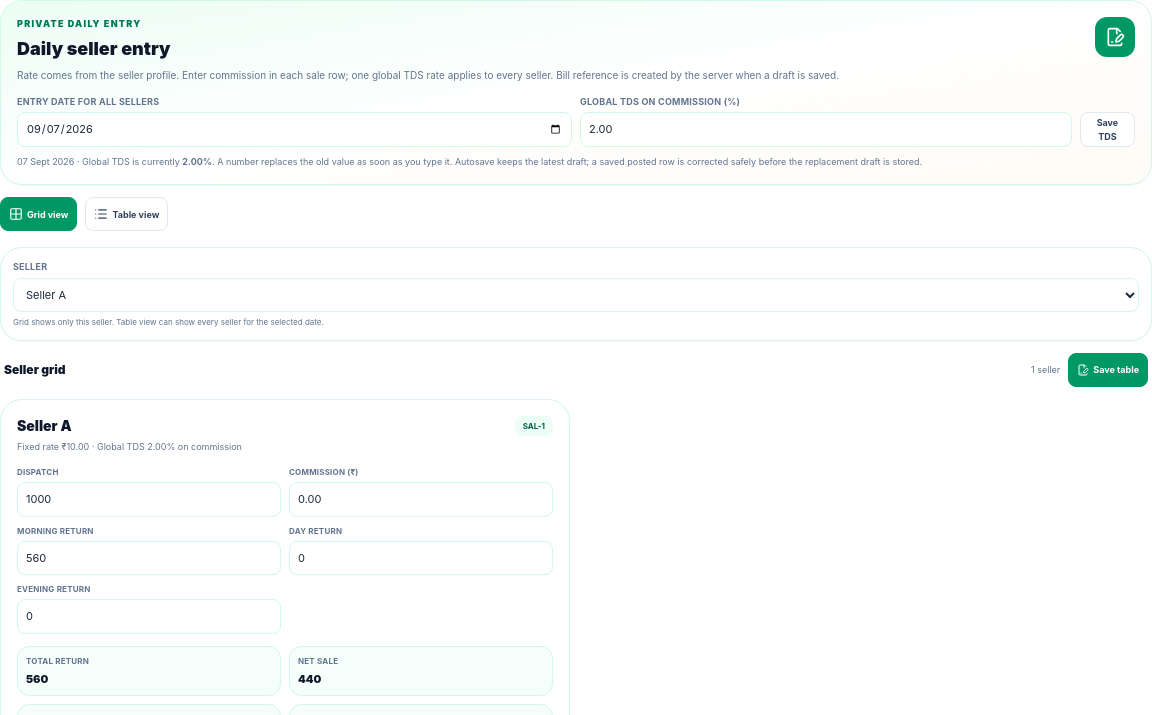
it: DailySellerEntry local-first projection › keeps local-first editing functional when no IndexedDB store is available
Replace the text in the field named "Seller A morning return" with "911" at coordinates (149, 558), box [17,541,281,575]
(page scrolled)
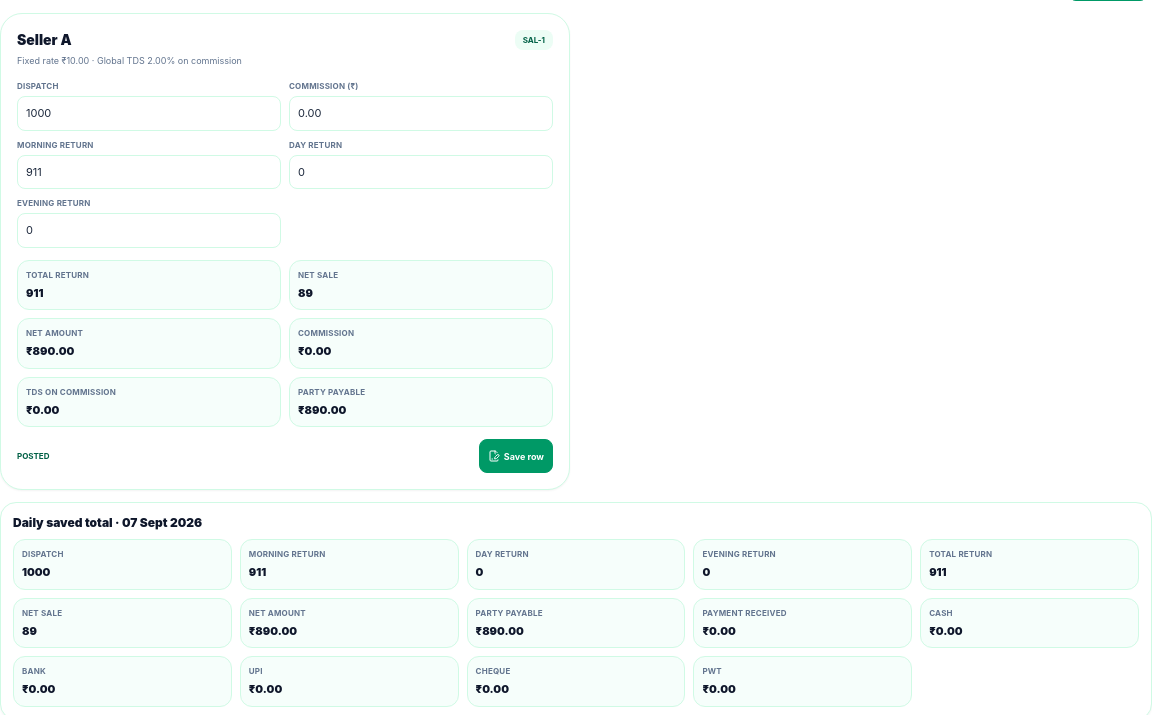
Click the button "Save row".
click(516, 456)  # box [479,439,553,473]
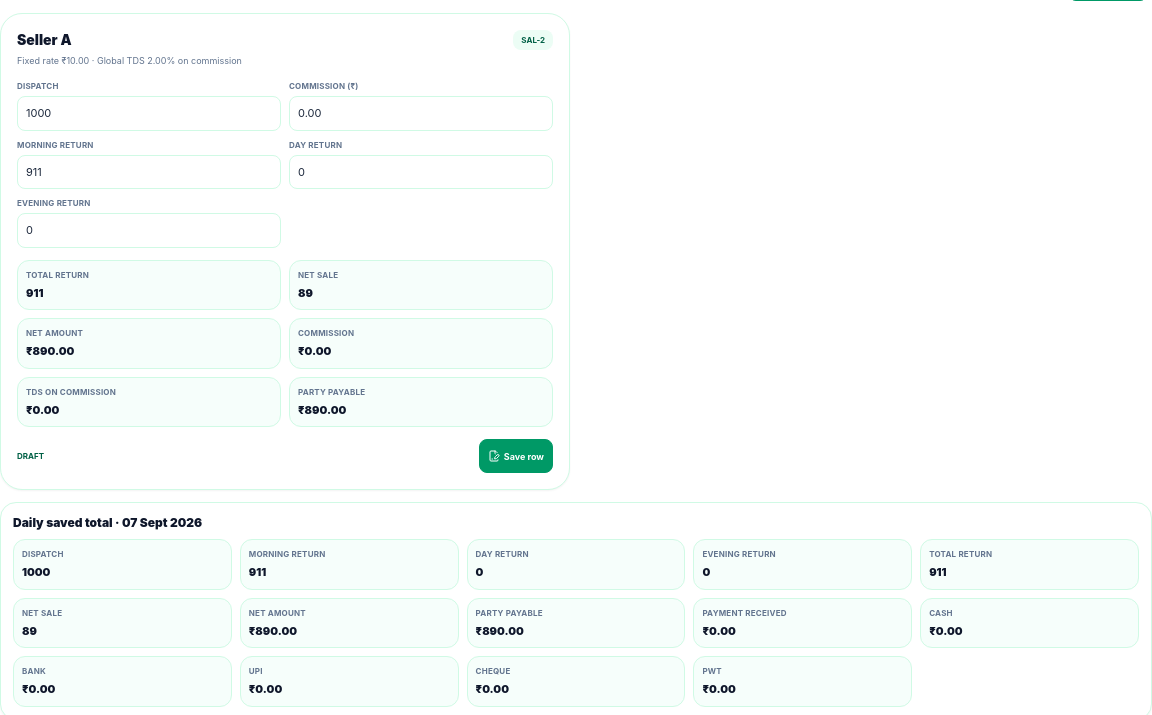
Expected: the text "SAL-2" is shown, [513,30,553,50]
